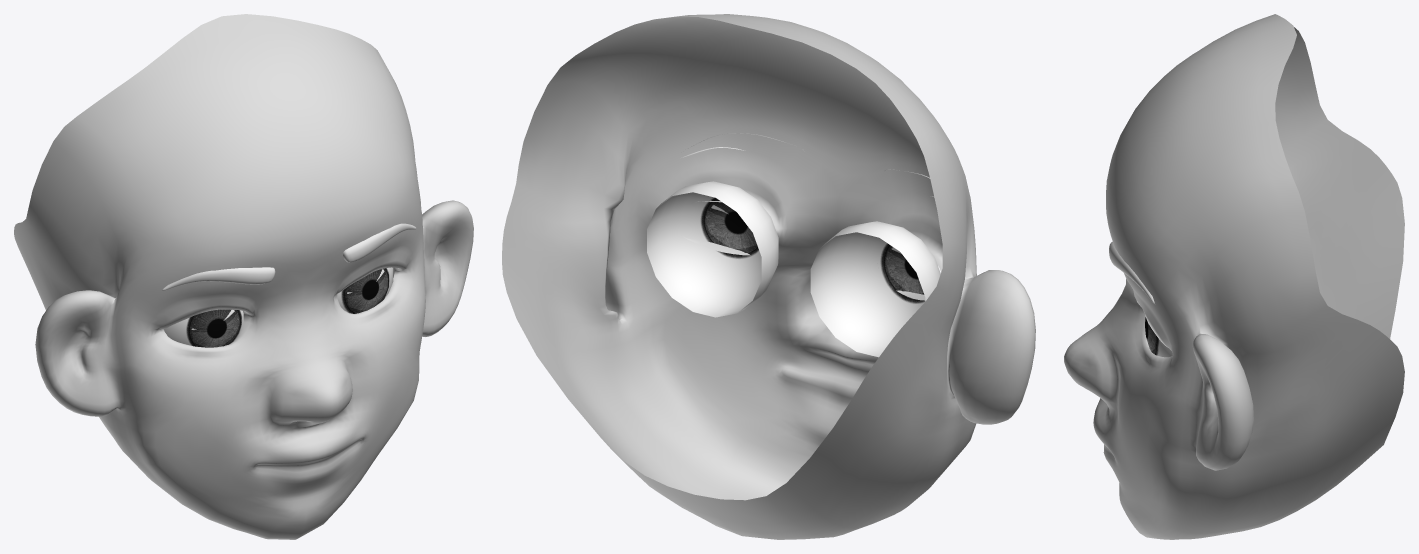
The model's file is head_happy.fbx.
The picture shows the model from 3 angles, left to right: view 1: azimuth 30°, elevation 25°; view 2: azimuth 150°, elevation 25°; view 3: azimuth 270°, elevation 25°; orthographic projection. The views are drawn at different scales.
Parts seen in each view (by area): view 1: face_ur, eyeball_right_ur, eyeball_left_ur; view 2: face_ur, eyeball_left_ur, eyeball_right_ur; view 3: face_ur, eyeball_left_ur.
Boxes of the visible parts, left/top/right/bottom form: face_ur: left=14, top=14, right=473, bottom=539; eyeball_right_ur: left=163, top=309, right=243, bottom=347; eyeball_left_ur: left=337, top=267, right=393, bottom=313; face_ur: left=502, top=14, right=1035, bottom=539; eyeball_left_ur: left=647, top=181, right=778, bottom=317; eyeball_right_ur: left=810, top=221, right=940, bottom=357; face_ur: left=1064, top=14, right=1404, bottom=539; eyeball_left_ur: left=1145, top=317, right=1172, bottom=357.
Size of the model in its own units: 78.91 by 81.79 by 50.98.
